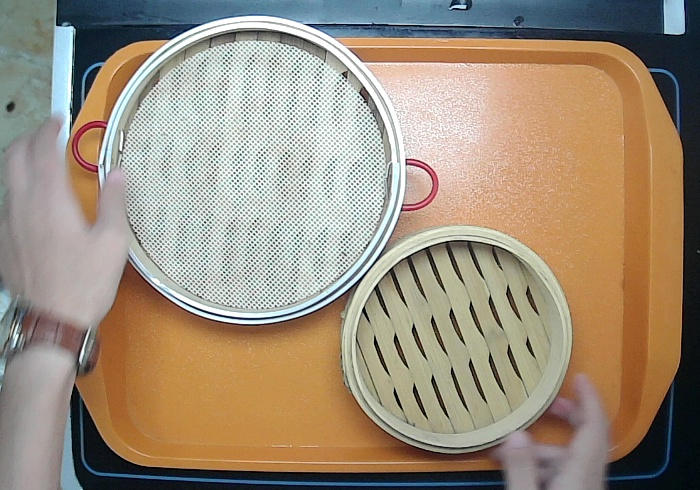ZNLD-Da_Zheng_Long: (68, 12, 441, 328)
ZNLD-Xiao_Zheng_Long: (337, 223, 575, 455)
